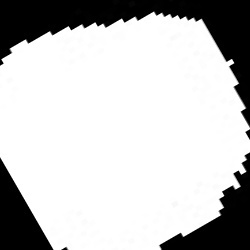spot: (1, 11, 250, 249)
